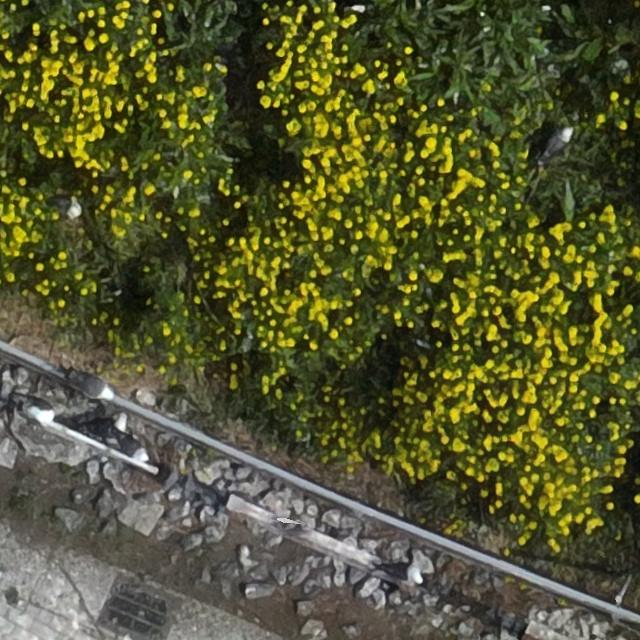umineko: (20, 400, 58, 429), (541, 125, 571, 159), (112, 434, 151, 460), (68, 376, 110, 399), (374, 564, 422, 584), (52, 196, 83, 218)
